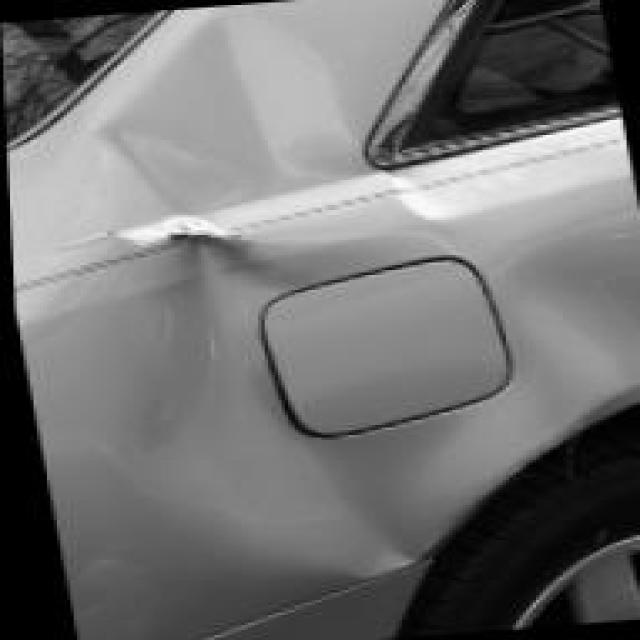Fender: (13, 132, 610, 562)
